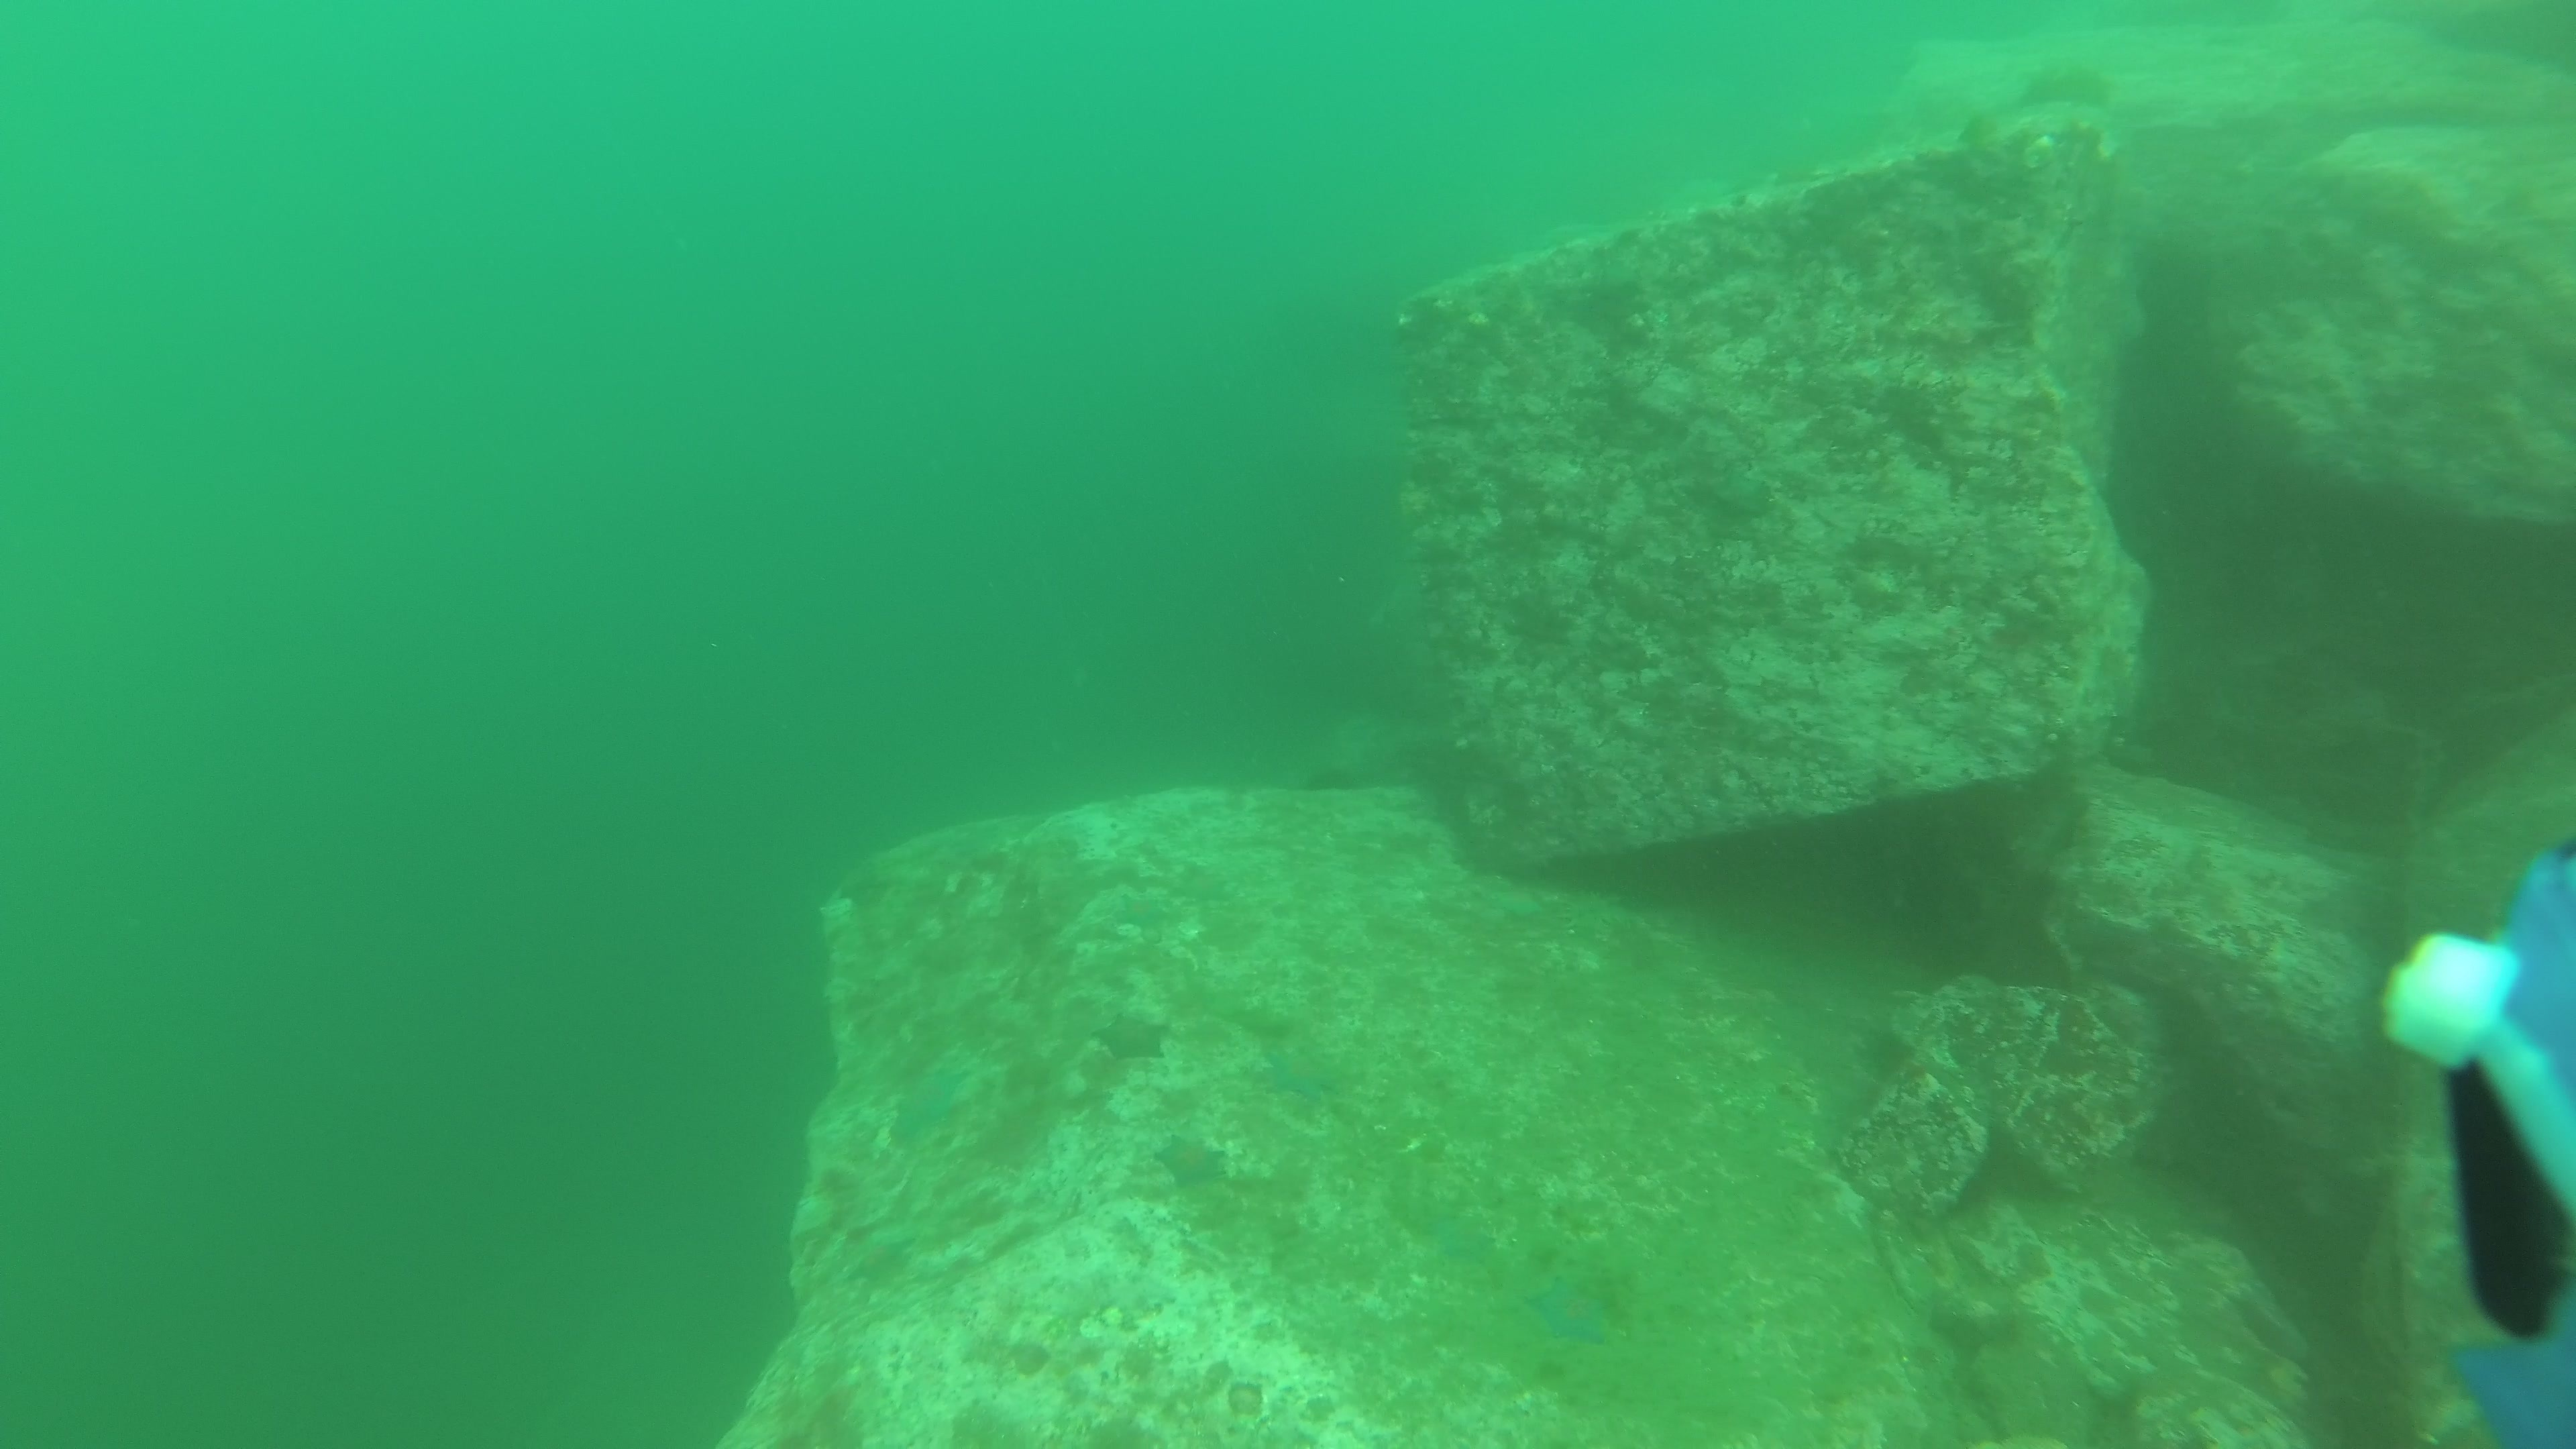starfish: (1522, 1267, 1617, 1346), (2019, 50, 2123, 111), (883, 1072, 966, 1146), (1260, 1039, 1350, 1104), (1081, 1012, 1178, 1070), (1146, 1132, 1235, 1194)
